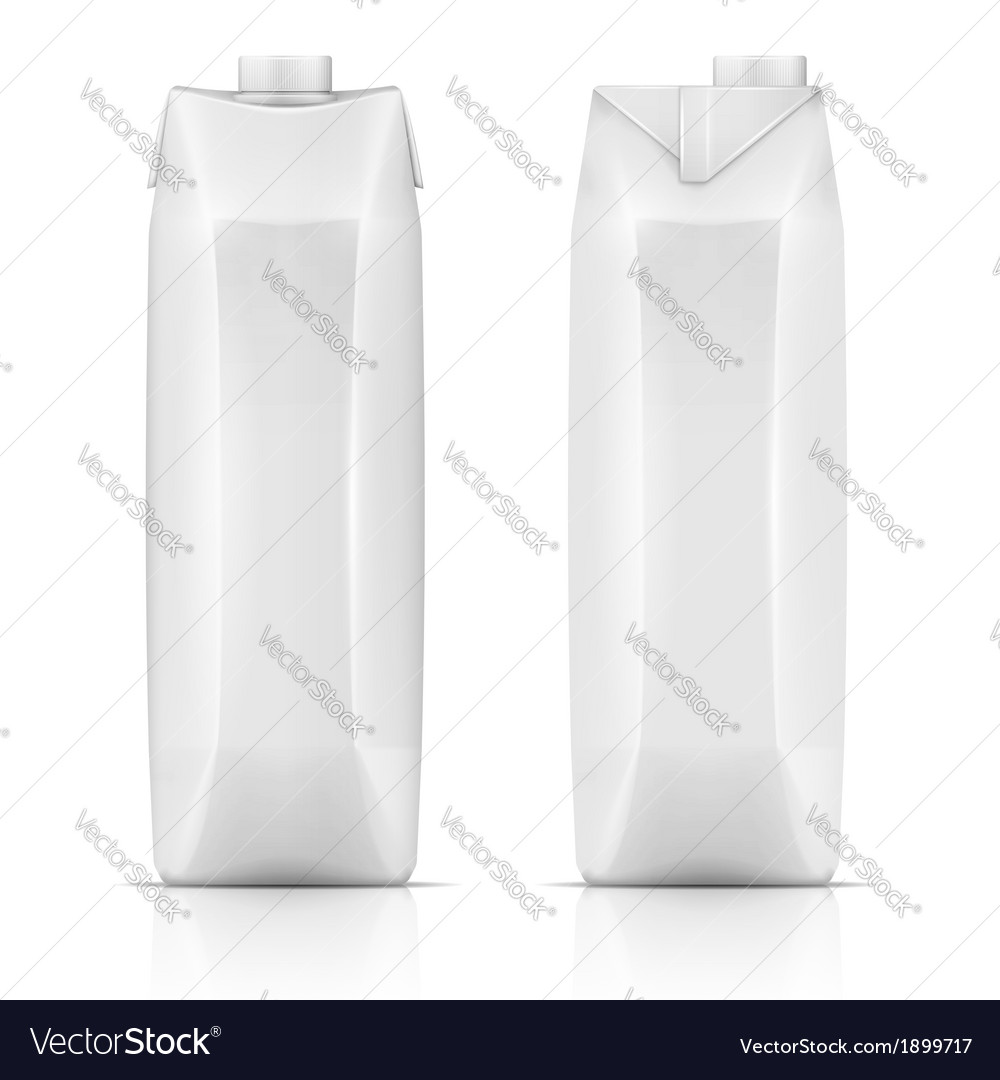carton: (530, 22, 882, 936), (117, 26, 465, 913)
